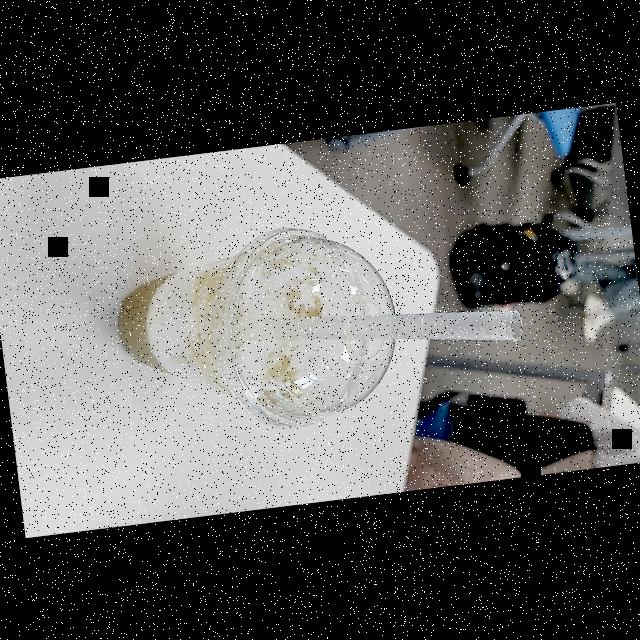plastic_cup: (108, 216, 408, 449)
plastic_cup_lid: (195, 211, 408, 438)
straw: (236, 269, 526, 380)
